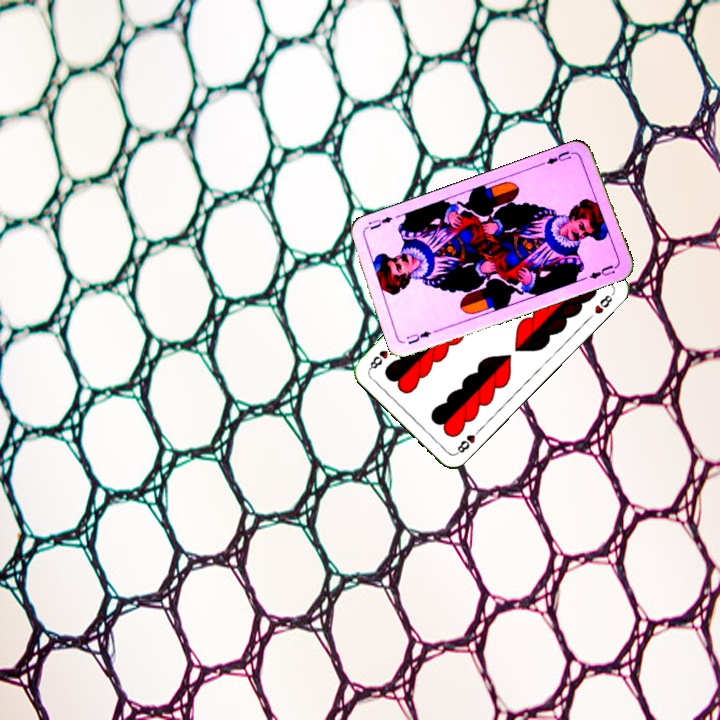EU: (542, 146, 578, 167), (402, 327, 433, 347)
H8: (452, 424, 484, 457)
